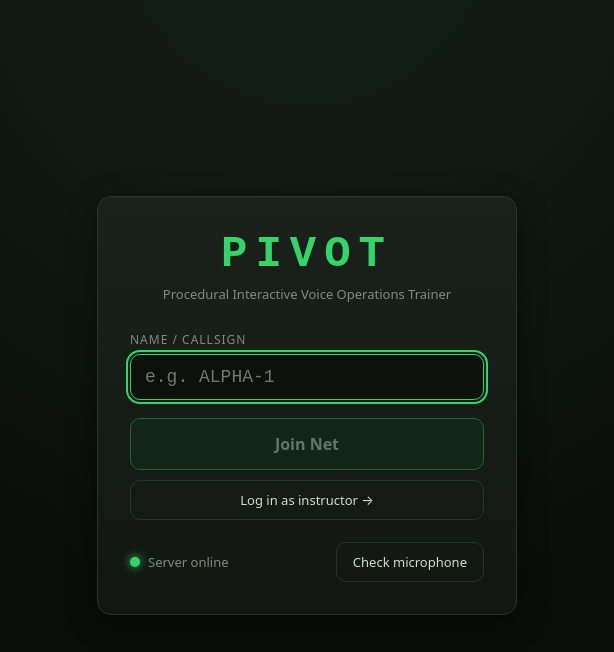
Test: Login › microphone checks › shows allow-access hint when getUserMedia is denied
Click the button "Check microphone".
click(410, 562)  # box [336, 542, 484, 582]
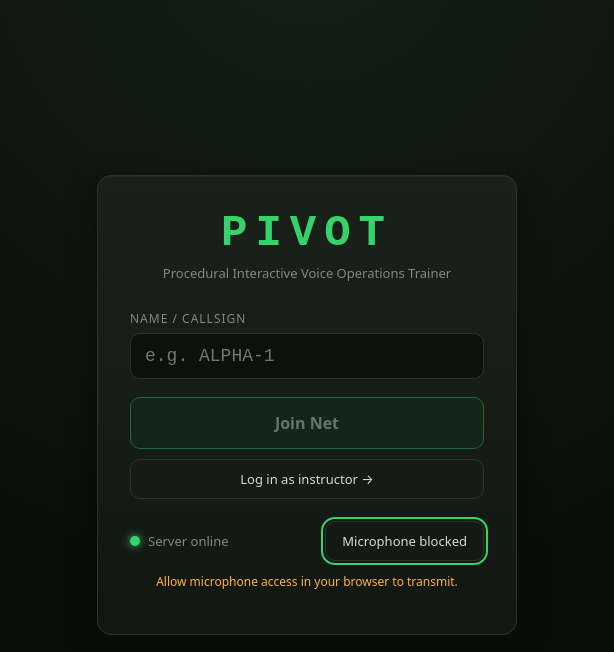
Expected: the button "Microphone blocked" is shown, [325, 521, 484, 561]
Expected: the text "Allow microphone access in your browser to transmit." is shown, [130, 573, 484, 590]
